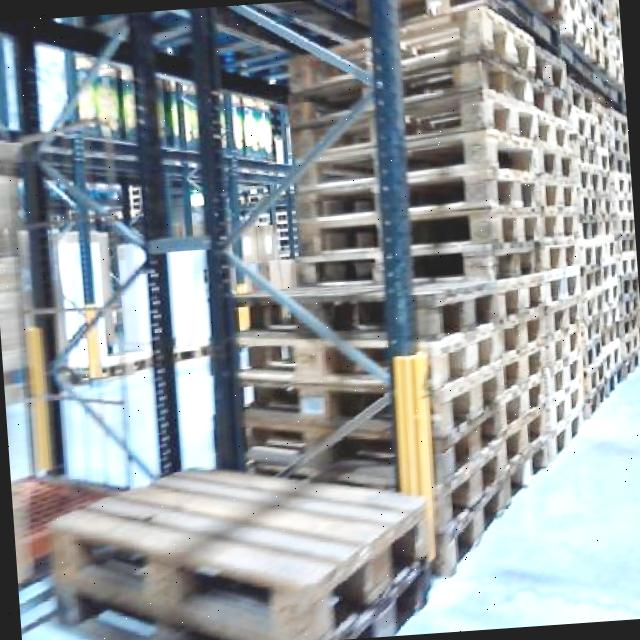ground: (401, 365, 640, 634)
pallet: (401, 0, 640, 571), (41, 447, 439, 640), (288, 110, 391, 363), (240, 294, 382, 468)
